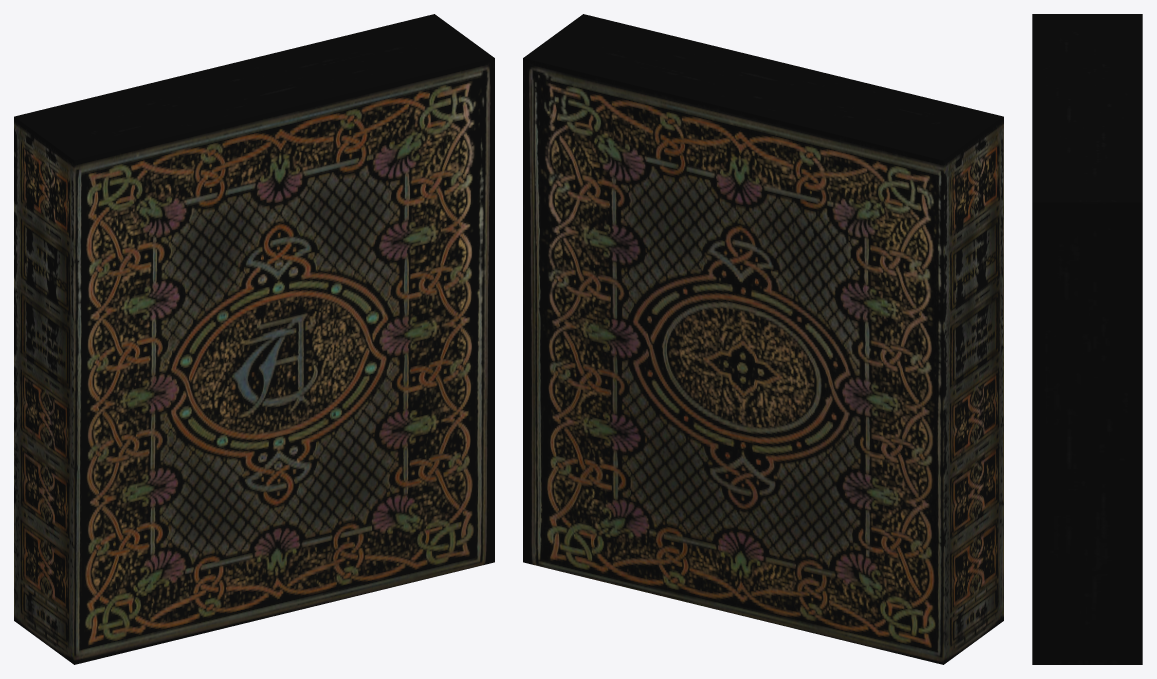
The model's file is magical_book.glb.
3 renders of one model, left to right at view 1: azimuth 30°, elevation 25°; view 2: azimuth 150°, elevation 25°; view 3: azimuth 270°, elevation 25°, orthographic. The views are drawn at different scales.
Visible parts, largest first — view 1: Object_2; view 2: Object_2; view 3: Object_2.
Boxes of the visible parts, x1,y1,x2,y2 form: Object_2: (14, 14, 494, 664); Object_2: (523, 14, 1003, 664); Object_2: (1032, 14, 1142, 664).
Bounding box in the file's own units: 37.49 × 42.96 × 9.3.
1 material, 1 textured.
